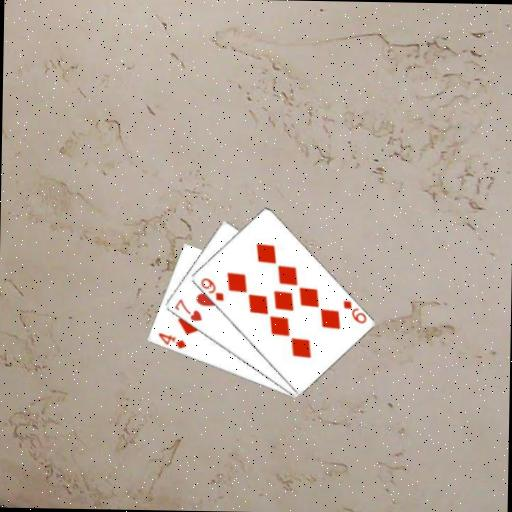4D: (155, 330, 188, 351)
7H: (171, 296, 203, 323)
9D: (197, 275, 226, 302), (340, 298, 368, 325)
